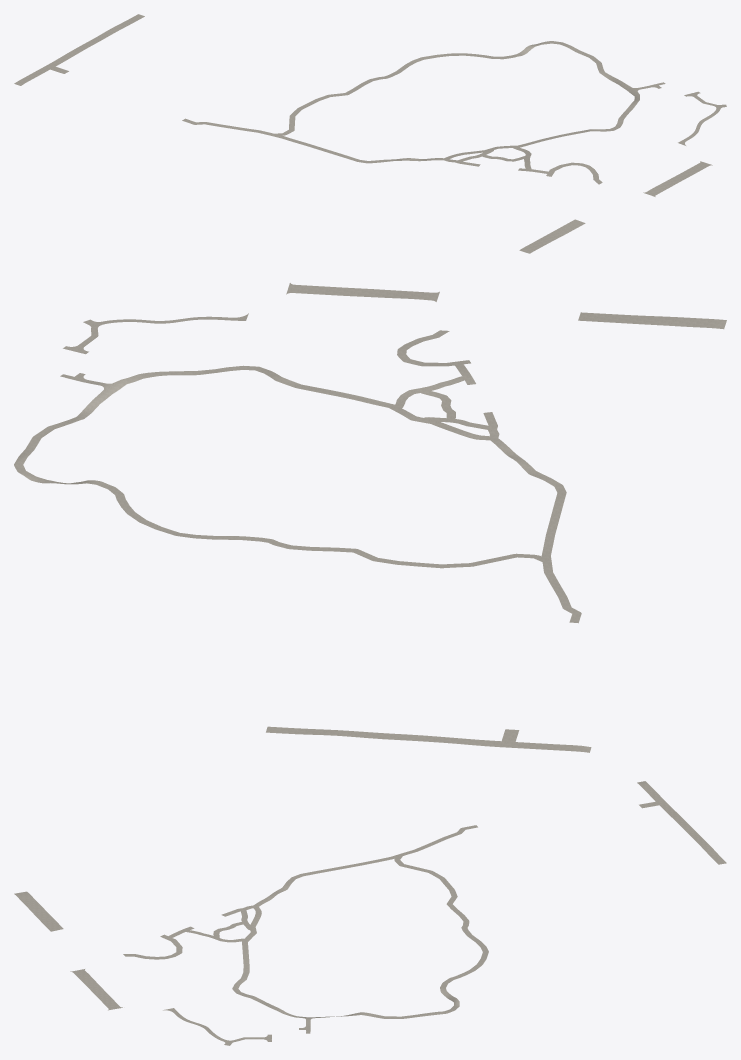
Rendered from sidewalk.glb.
3 renders of one model, top to bottom at view 1: azimuth 30°, elevation 25°; view 2: azimuth 150°, elevation 25°; view 3: azimuth 270°, elevation 25°, orthographic. The views are drawn at different scales.
Parts seen in each view (by area): view 1: sidewalk.005; view 2: sidewalk.005; view 3: sidewalk.005.
Boxes of the visible parts, x1,y1,x2,y2 form: sidewalk.005: (14,14,726,253); sidewalk.005: (14,283,726,752); sidewalk.005: (14,781,726,1045).
Size of the model in its own units: 1192 by 10.72 by 1364.
Materials: 1 (1 with a texture image).
